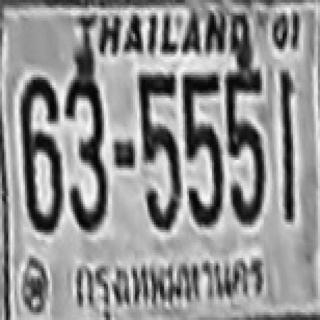N00: (185, 124, 222, 225)
N03: (66, 75, 107, 230)
P04: (70, 252, 268, 315)
